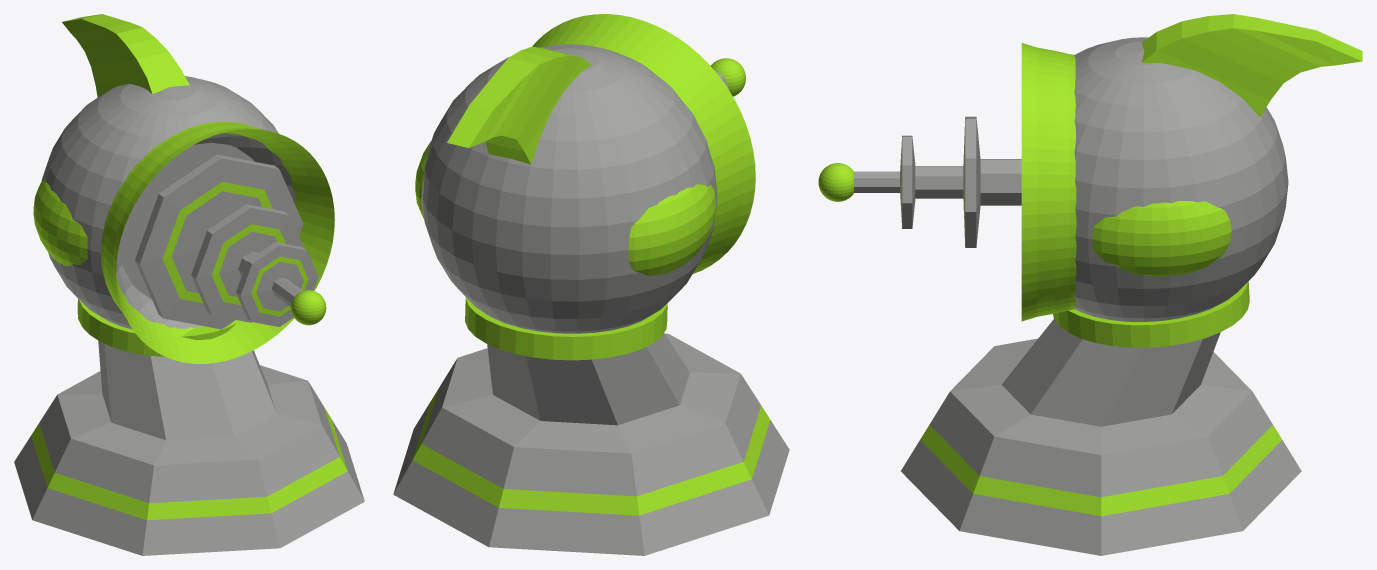
The model's file is Laser_Tower_Upgraded.fbx.
3 views of the same model, side by side, from view 1: azimuth 30°, elevation 25°; view 2: azimuth 150°, elevation 25°; view 3: azimuth 270°, elevation 25° (orthographic). The views are drawn at different scales.
Visible parts, largest first — view 1: Sphere; view 2: Sphere; view 3: Sphere.
Boxes of the visible parts, bbox=[...] form: Sphere: bbox=[14, 14, 364, 555]; Sphere: bbox=[393, 14, 789, 555]; Sphere: bbox=[818, 14, 1362, 555].
Size of the model in its own units: 445 by 551 by 603.
1 material, 1 textured.
